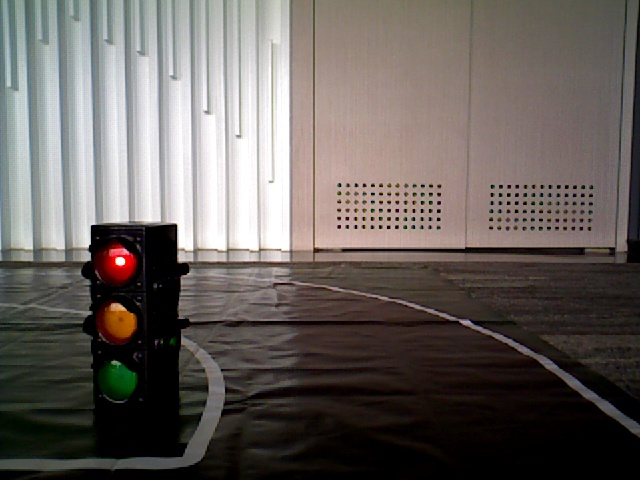red: (95, 231, 160, 400)
